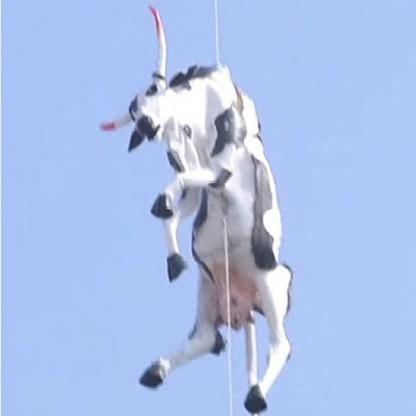cow: (129, 65, 290, 411)
